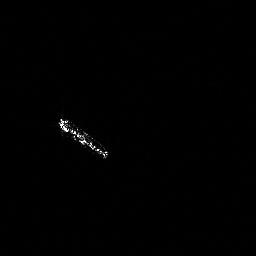ship: (58, 118, 108, 159)
